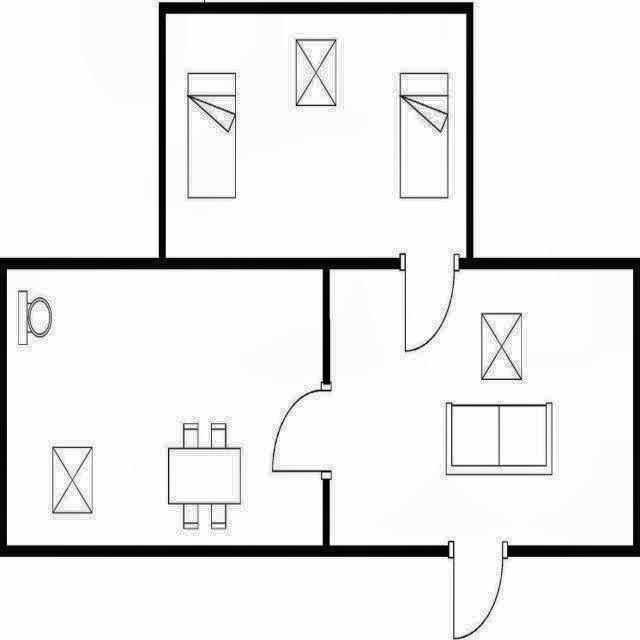room: (7, 269, 322, 545), (330, 269, 633, 545), (166, 14, 466, 257)
